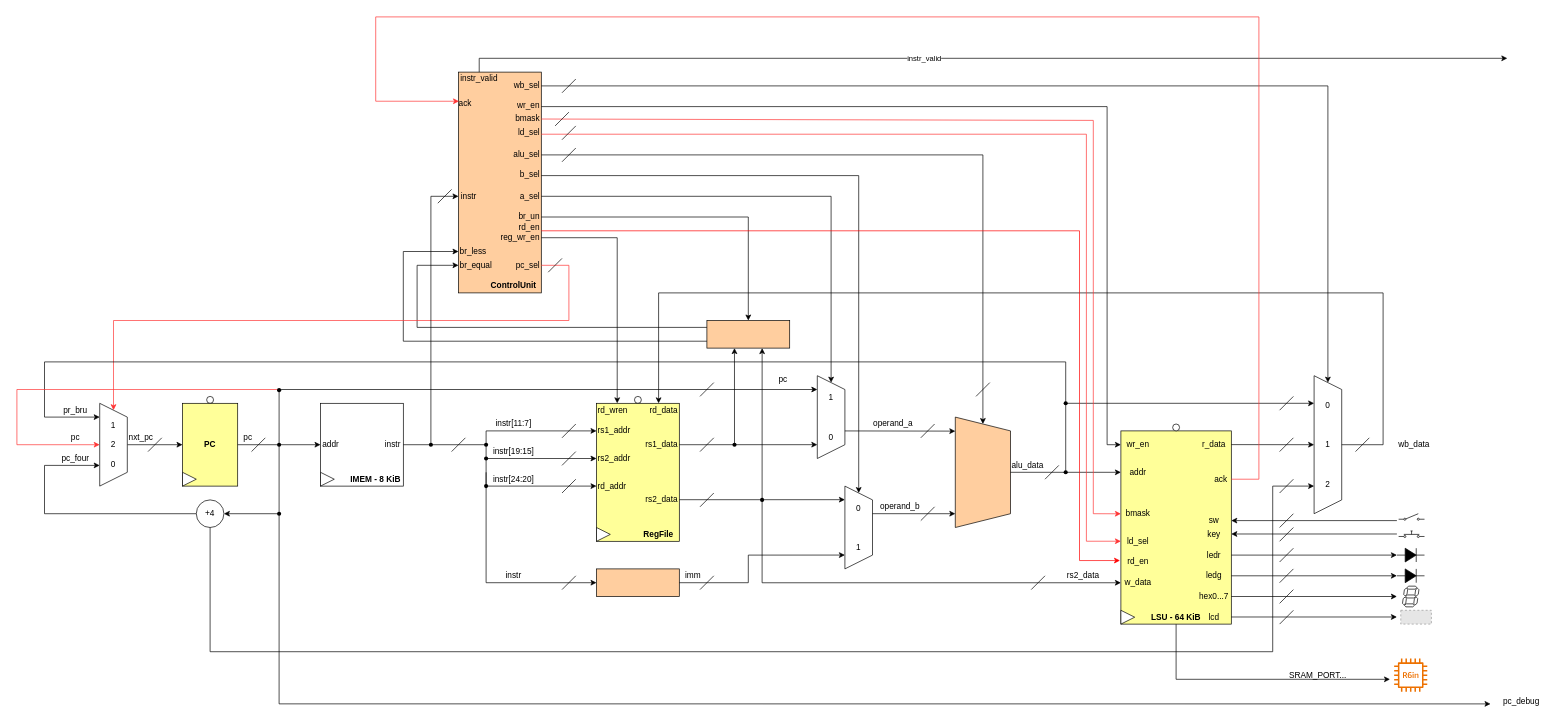
Image size: 1561x725. Some labels were removed from this diagram. Grey dashed boxes stand in for pictures. Each missing label, with the centre of its shape:
ALU: the point at 983,472
BrComp: the point at 748,334
ImmGen: the point at 637,582
